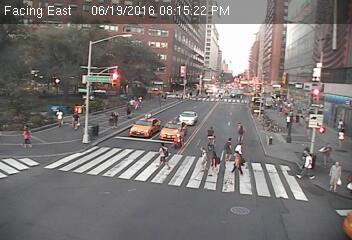neg: (123, 180, 135, 196), (183, 194, 194, 209), (225, 203, 235, 217), (126, 46, 136, 59), (47, 151, 56, 164), (75, 168, 84, 181), (228, 98, 237, 110), (286, 40, 295, 51), (235, 71, 243, 82), (94, 24, 102, 35), (262, 205, 270, 215), (333, 24, 341, 34), (269, 14, 277, 24), (262, 149, 269, 159), (267, 127, 274, 136), (312, 87, 319, 96), (201, 54, 208, 63), (63, 43, 70, 52), (104, 66, 111, 75), (285, 114, 291, 122), (160, 35, 166, 43), (149, 73, 155, 80), (319, 122, 324, 129), (189, 23, 194, 29), (130, 13, 135, 19), (38, 82, 42, 87)
pos: (292, 143, 319, 180), (190, 144, 217, 181), (324, 159, 351, 195), (152, 142, 176, 174), (314, 141, 335, 168), (207, 147, 227, 174), (16, 122, 35, 148), (230, 150, 248, 174), (221, 136, 238, 159), (121, 101, 138, 123), (334, 129, 350, 151), (235, 118, 251, 140), (106, 107, 122, 129), (334, 112, 349, 132), (68, 110, 83, 129), (52, 107, 66, 127), (234, 141, 245, 156), (203, 90, 212, 102)
